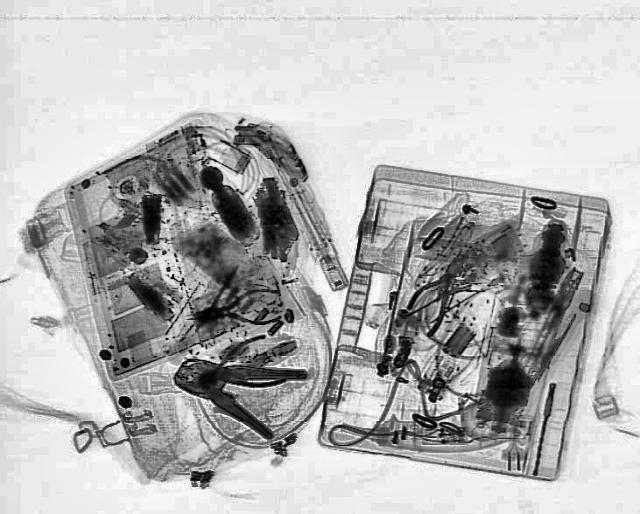Pliers: (155, 338, 311, 440), (392, 247, 483, 337), (184, 333, 290, 403), (179, 286, 285, 334)
